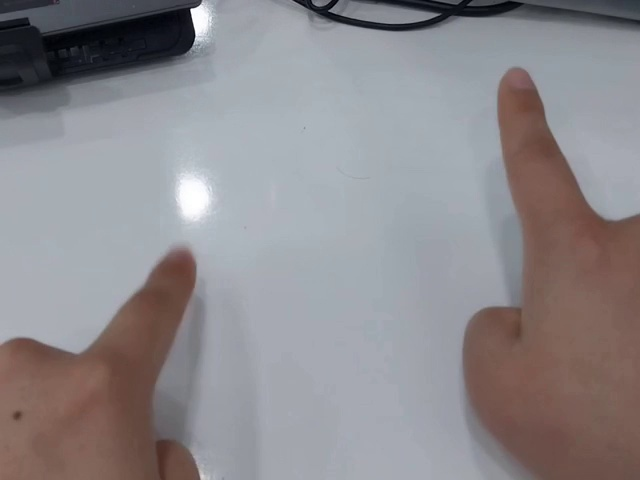fingers: (150, 245, 199, 294), (496, 65, 545, 111)
